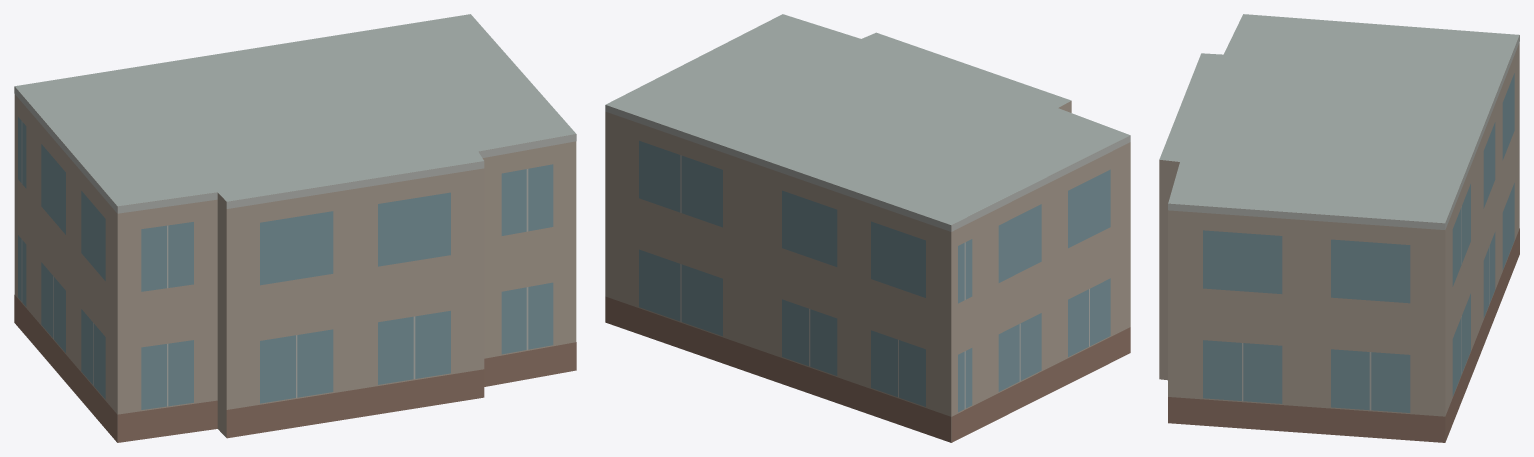
The model's file is survey-upis-32744317.glb.
The picture shows the model from 3 angles, left to right: view 1: azimuth 30°, elevation 25°; view 2: azimuth 150°, elevation 25°; view 3: azimuth 270°, elevation 25°; orthographic projection. The views are drawn at different scales.
Parts seen in each view (by area): view 1: survey-upis-32744317.tmp; view 2: survey-upis-32744317.tmp; view 3: survey-upis-32744317.tmp.
Boxes of the visible parts, x1,y1,x2,y2 form: survey-upis-32744317.tmp: (14, 14, 576, 442); survey-upis-32744317.tmp: (605, 14, 1130, 442); survey-upis-32744317.tmp: (1159, 14, 1519, 442).
Size of the model in its own units: 16.06 by 7.85 by 11.69.
